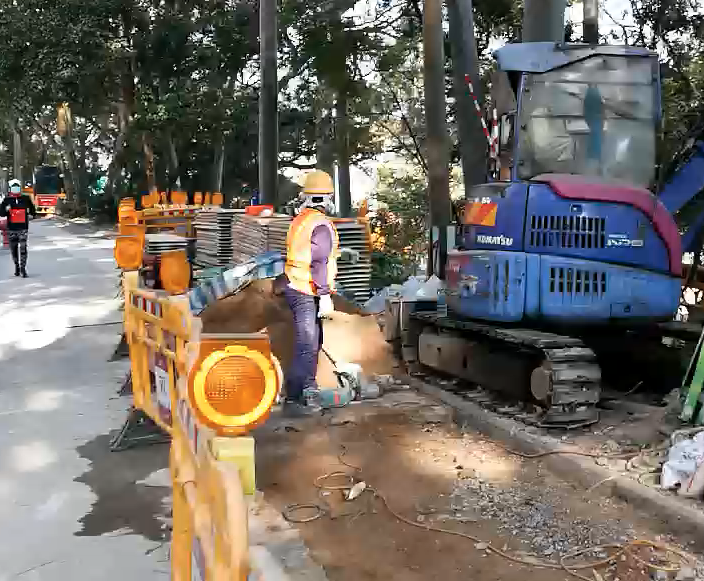Hard Hat: (297, 171, 336, 209)
Person: (284, 169, 341, 411), (4, 178, 38, 280)
Vest: (288, 195, 340, 296)
